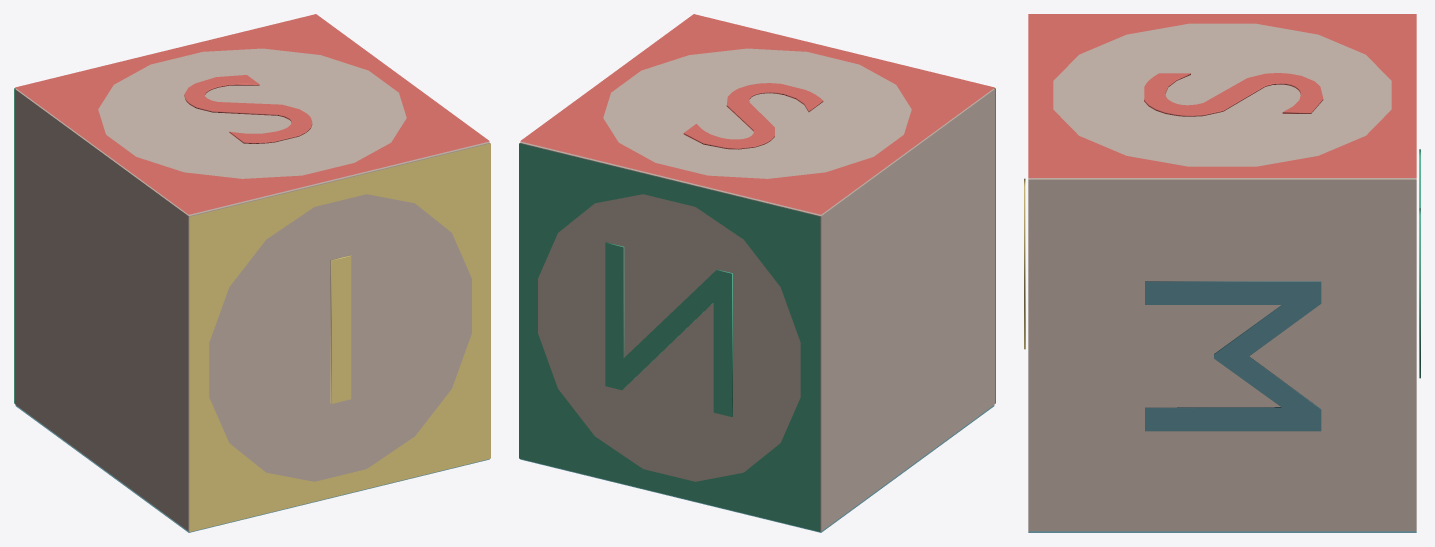
3 renders of one model, left to right at view 1: azimuth 30°, elevation 25°; view 2: azimuth 150°, elevation 25°; view 3: azimuth 270°, elevation 25°, orthographic. The views are drawn at different scales.
Visible parts, largest first — view 1: cube; view 2: cube; view 3: cube.
Boxes of the visible parts, left/top/right/bottom form: cube: left=14, top=14, right=490, bottom=532; cube: left=519, top=14, right=995, bottom=532; cube: left=1024, top=14, right=1420, bottom=532.
Size of the model in its own units: 0.0453 by 0.046 by 0.046.
